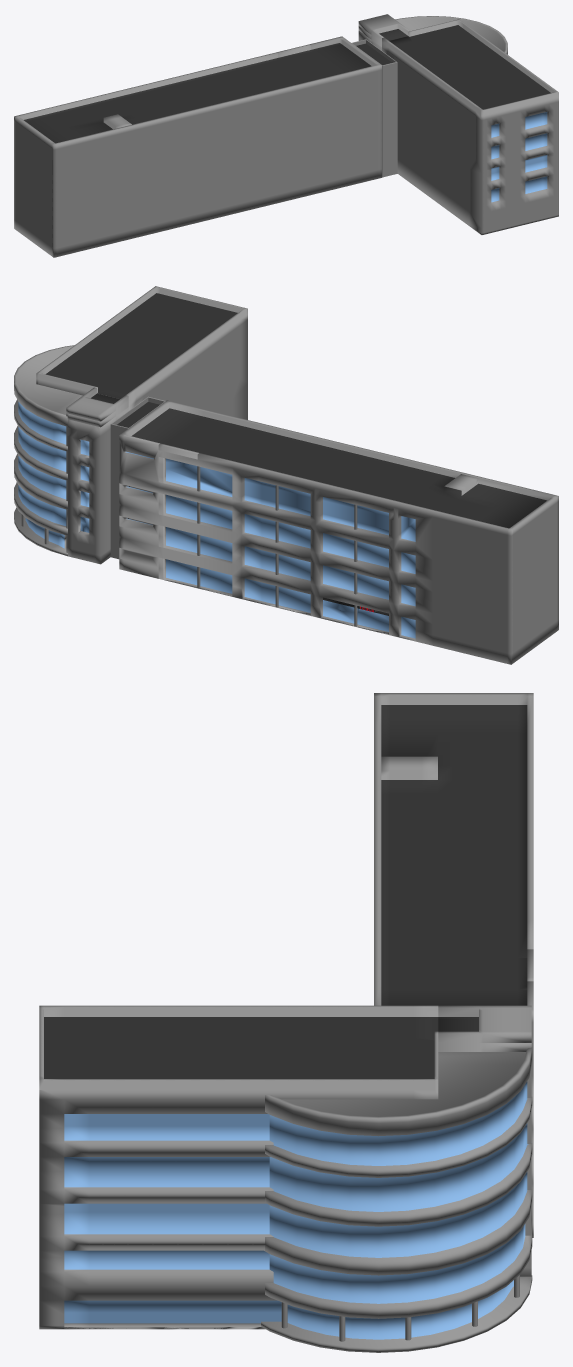
The picture shows the model from 3 angles, top to bottom: view 1: azimuth 30°, elevation 25°; view 2: azimuth 150°, elevation 25°; view 3: azimuth 270°, elevation 25°; orthographic projection. The views are drawn at different scales.
Parts seen in each view (by area): view 1: FB.001; view 2: FB.001; view 3: FB.001.
Boxes of the visible parts, x1=… form: FB.001: x1=14, y1=14, x2=558, y2=257; FB.001: x1=14, y1=286, x2=558, y2=664; FB.001: x1=39, y1=693, x2=533, y2=1352.
Bounding box in the file's own units: 10.78 × 2.87 × 5.17.
